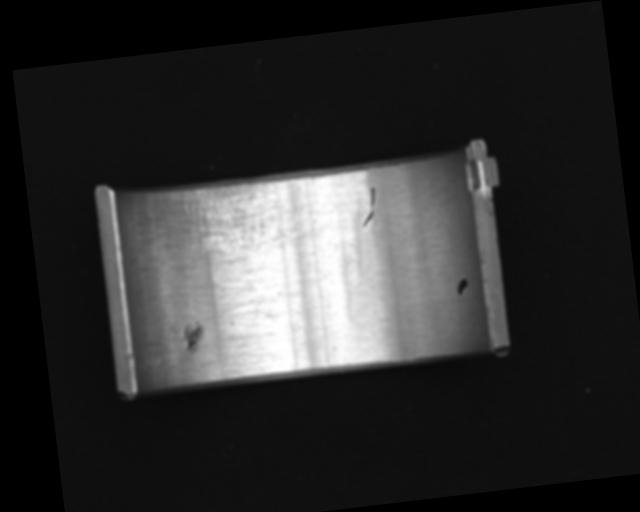blot: (455, 276, 470, 296)
bruise: (180, 319, 207, 353)
nick: (358, 185, 379, 226)
scratch: (170, 176, 314, 265)
